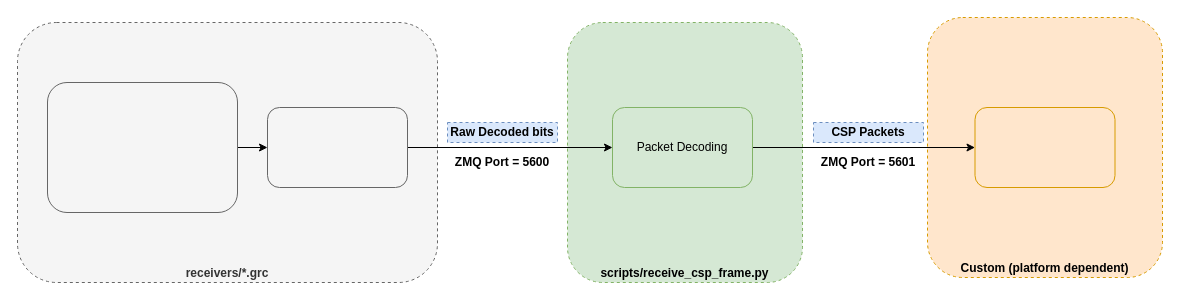
Some shapes in this 1180 by 300 pixel diagram are drawn without their labels. The centre of each missing label's shape, as x and y in pixels:
Demodulation: point 337,147
Packet Parser (Application Layer): point 1044,147
Pluto SDR Address="pluto.local": point 142,147
